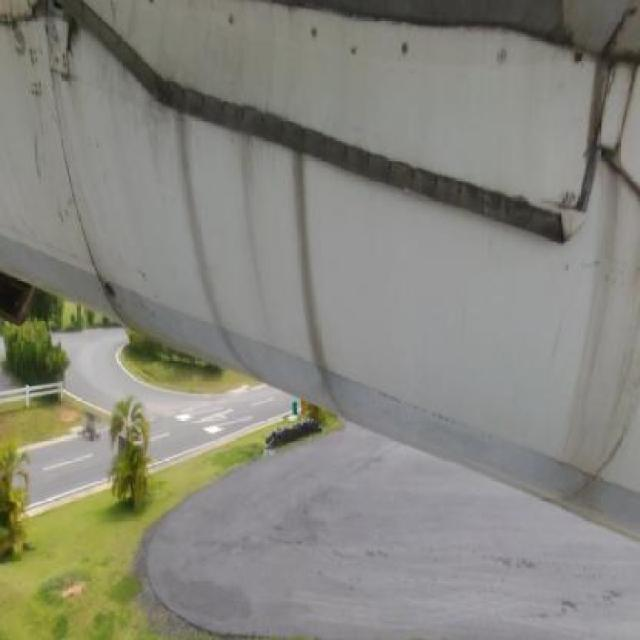Rust: (151, 73, 258, 382), (577, 52, 638, 538), (273, 133, 362, 435), (226, 96, 291, 330), (453, 2, 596, 68), (88, 31, 169, 146), (85, 240, 132, 326)
Scartch: (0, 7, 114, 85), (28, 111, 75, 247)
